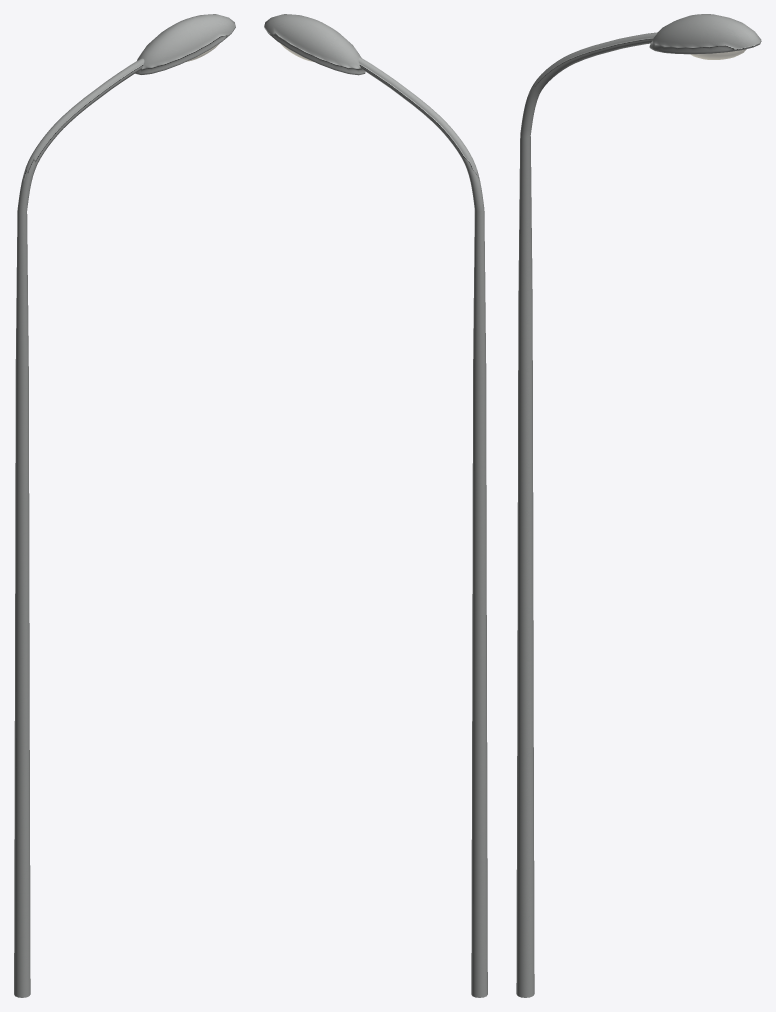
The picture shows the model from 3 angles, left to right: view 1: azimuth 30°, elevation 25°; view 2: azimuth 150°, elevation 25°; view 3: azimuth 330°, elevation 25°; orthographic projection. The views are drawn at different scales.
Parts seen in each view (by area): view 1: LO-gan_01; view 2: LO-gan_01; view 3: LO-gan_01.
Part boxes in pixels (x1,y1,x2,y2): LO-gan_01: (14,14,235,997); LO-gan_01: (264,14,487,997); LO-gan_01: (516,14,761,997).
Size of the model in its own units: 1.58 by 6.38 by 0.2759.
Materials: 3 (2 with a texture image).
